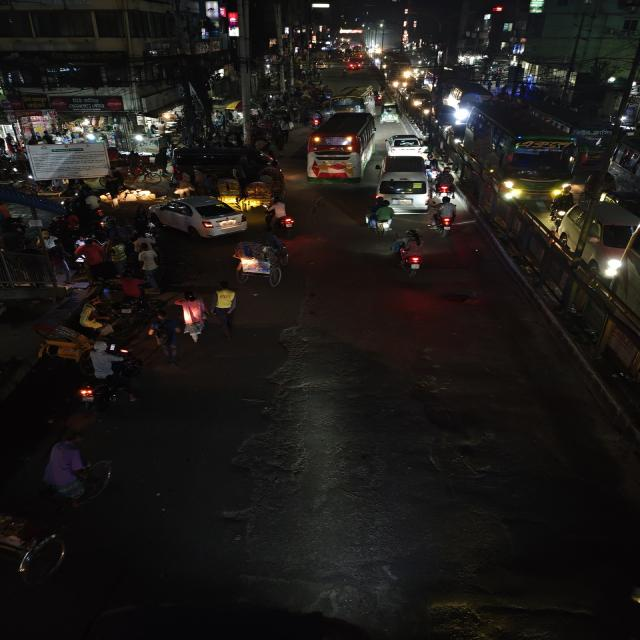bus: (467, 104, 579, 200), (304, 111, 378, 188), (606, 132, 640, 201), (450, 85, 493, 122), (328, 85, 373, 112)
car: (550, 196, 640, 277), (153, 195, 250, 239), (374, 156, 432, 210), (381, 132, 428, 158)
cng: (446, 122, 469, 149), (379, 103, 402, 125)
motorcycle: (72, 349, 146, 417), (390, 233, 430, 278), (426, 198, 461, 238), (362, 199, 397, 237), (265, 197, 298, 233), (434, 168, 459, 200), (307, 110, 322, 130)
pedestrian: (150, 310, 188, 362), (175, 288, 208, 342), (74, 236, 110, 278), (212, 281, 240, 333), (137, 247, 161, 282), (105, 239, 130, 267)
rickshaw: (0, 443, 121, 586), (229, 234, 294, 286), (213, 177, 273, 207), (114, 153, 158, 184), (241, 178, 277, 208), (212, 176, 245, 202)
